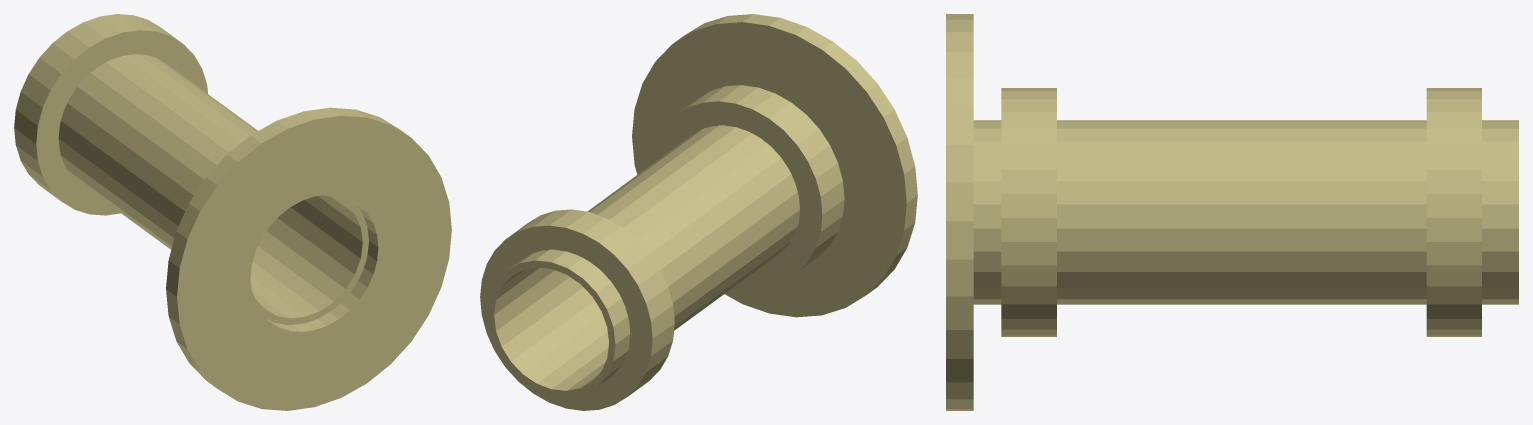
3 views of the same model, side by side, from view 1: azimuth 30°, elevation 25°; view 2: azimuth 150°, elevation 25°; view 3: azimuth 270°, elevation 25° (orthographic). The views are drawn at different scales.
Visible parts, largest first — view 1: geometry_0; view 2: geometry_0; view 3: geometry_0.
Boxes of the visible parts, box(x1,y1,x2,y2) form: geometry_0: box(14, 14, 451, 410); geometry_0: box(480, 14, 917, 410); geometry_0: box(946, 14, 1518, 410).
Bounding box in the file's own units: 86 × 86 × 124.
